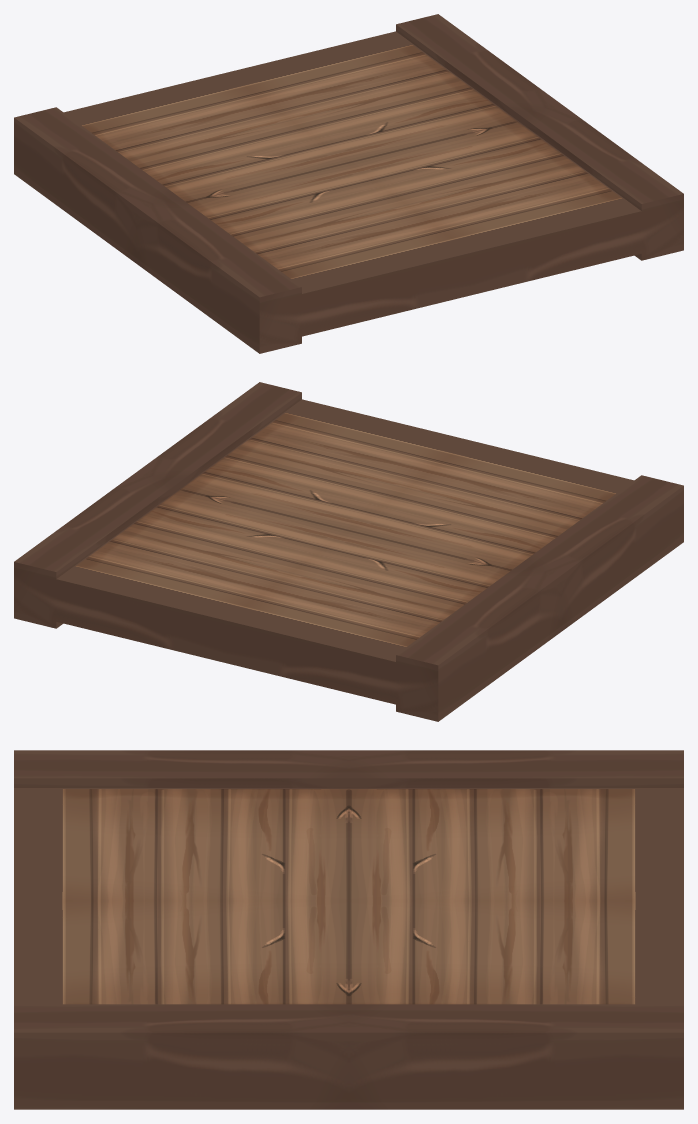
File: platform.gltf
3 renders of one model, top to bottom at view 1: azimuth 30°, elevation 25°; view 2: azimuth 150°, elevation 25°; view 3: azimuth 270°, elevation 25°, orthographic. The views are drawn at different scales.
Visible parts, largest first — view 1: PlatformMesh; view 2: PlatformMesh; view 3: PlatformMesh.
Part boxes in pixels (x1,y1,x2,y2): PlatformMesh: (14, 14, 683, 353); PlatformMesh: (14, 382, 683, 721); PlatformMesh: (14, 750, 683, 1109).
Size of the model in its own units: 2 by 0.2549 by 2.01.
1 material, 1 textured.
